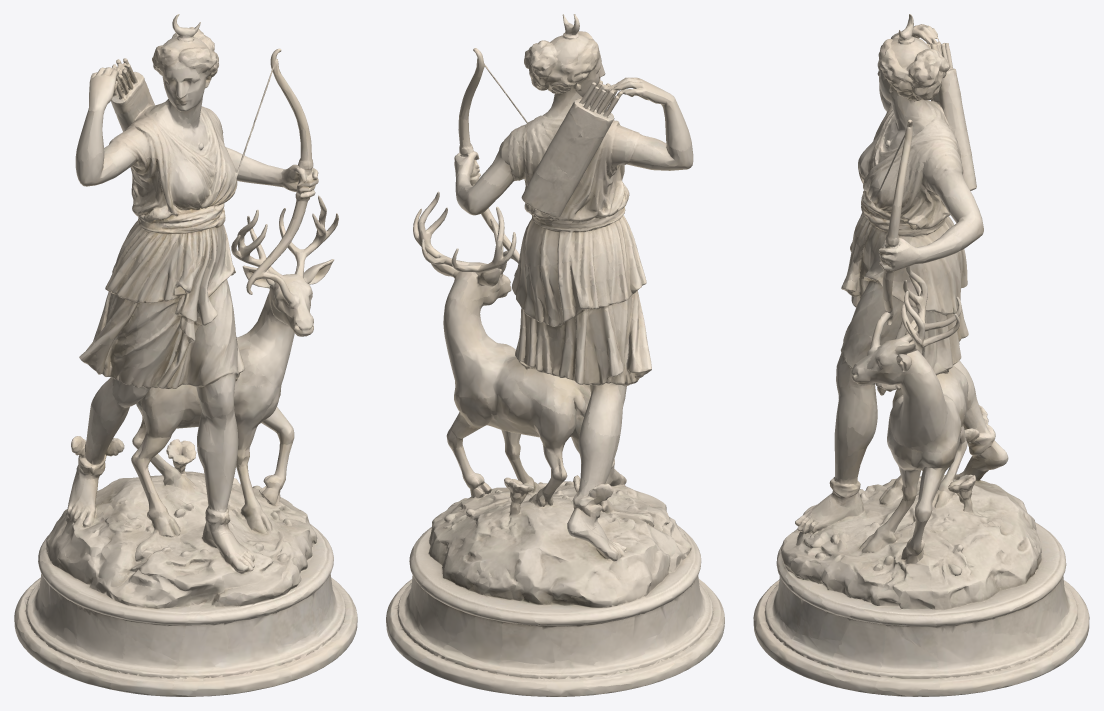
File: statue__artemis-huntress.glb
3 views of the same model, side by side, from view 1: azimuth 30°, elevation 25°; view 2: azimuth 150°, elevation 25°; view 3: azimuth 270°, elevation 25° (orthographic). The views are drawn at different scales.
Size of the model in its own units: 0.954 by 1.9 by 0.954.
1 material, 1 textured.
